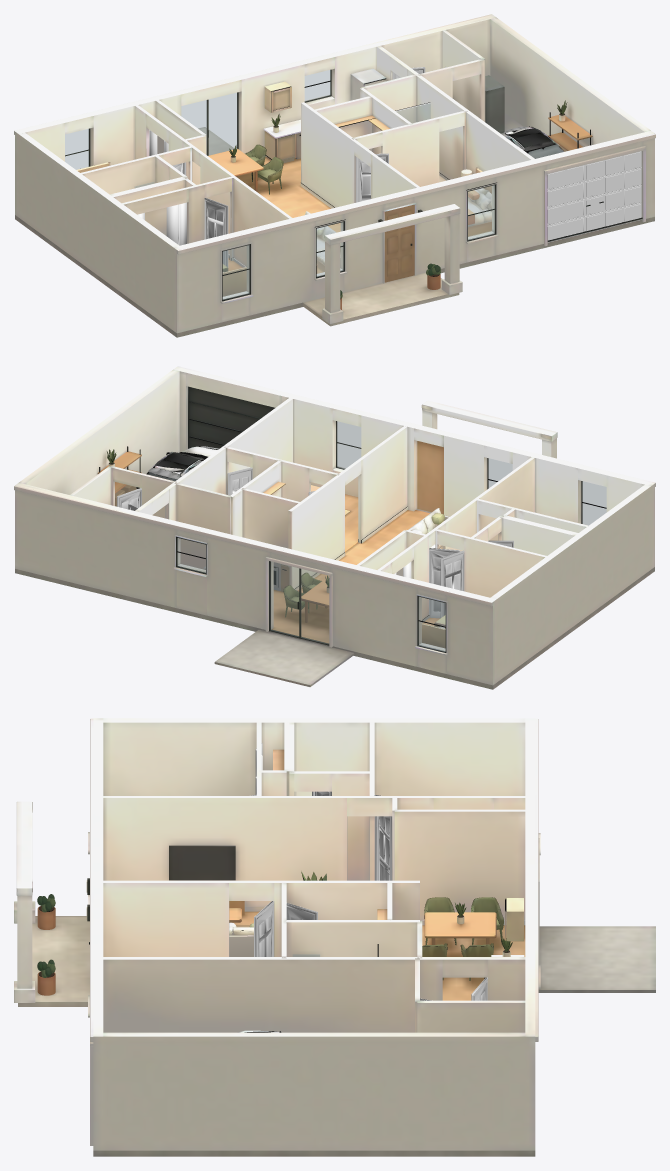
File: bell-plan-v5.glb
3 views of the same model, one above another, from view 1: azimuth 30°, elevation 25°; view 2: azimuth 150°, elevation 25°; view 3: azimuth 270°, elevation 25° (orthographic). The views are drawn at different scales.
Parts seen in each view (by area): view 1: Bell reference interior; view 2: Bell reference interior; view 3: Bell reference interior.
Boxes of the visible parts, x1,y1,x2,y2 form: Bell reference interior: (14,14,655,337); Bell reference interior: (14,366,655,689); Bell reference interior: (14,718,655,1156).
Size of the model in its own units: 15.24 by 2.68 by 12.99.
9 materials, 1 textured.
